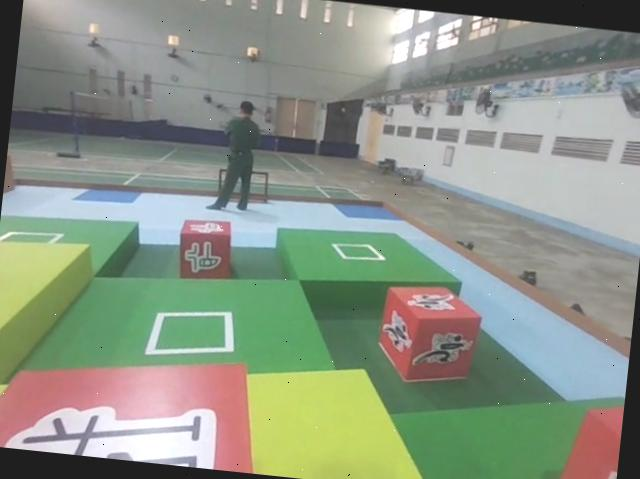R1: (376, 282, 485, 388)
R2 Real: (171, 212, 238, 286)
